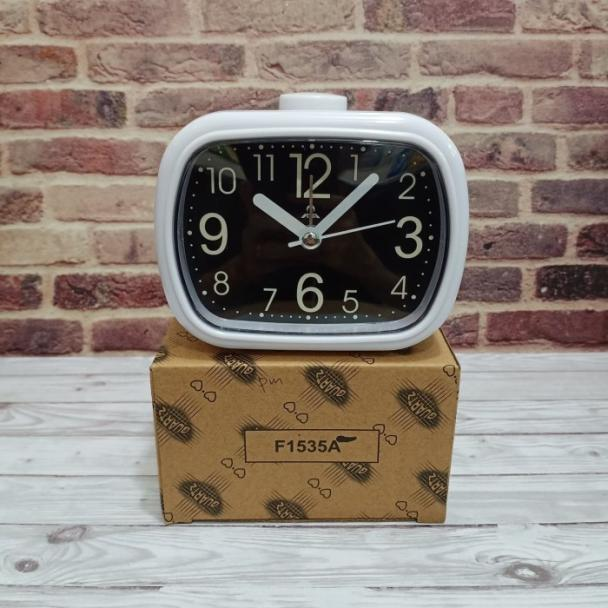Jam: (161, 106, 466, 346)
